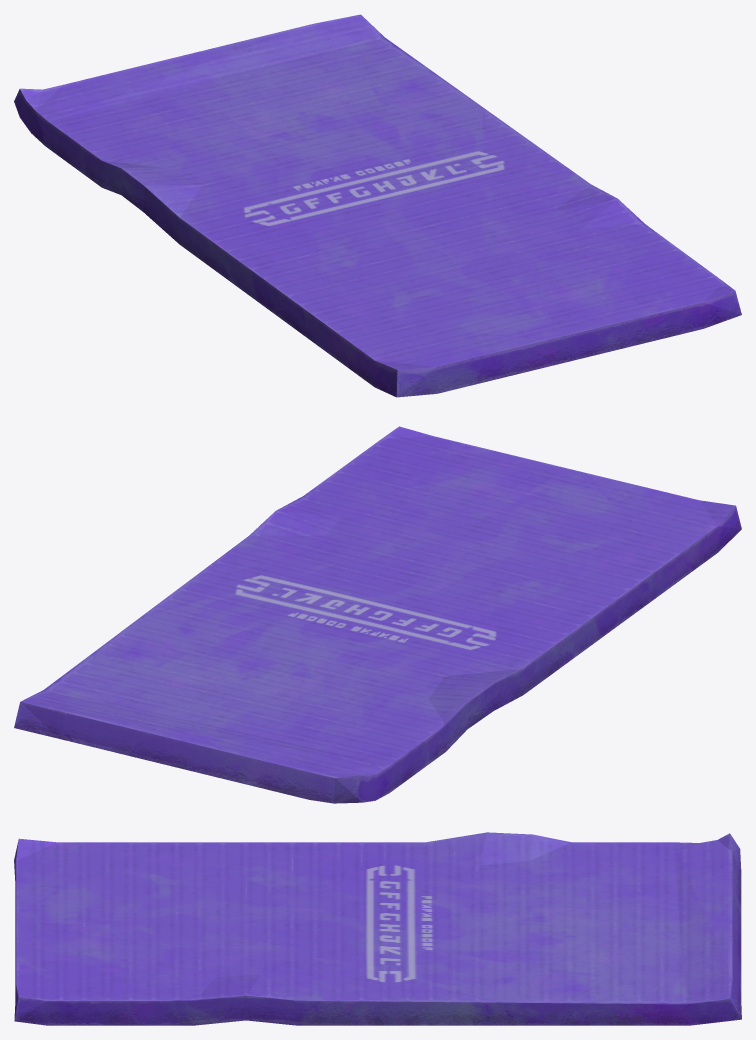
The model's file is P_YogaMat_001_S1_M03.obj.
The picture shows the model from 3 angles, top to bottom: view 1: azimuth 30°, elevation 25°; view 2: azimuth 150°, elevation 25°; view 3: azimuth 270°, elevation 25°; orthographic projection. The views are drawn at different scales.
Size of the model in its own units: 0.9838 by 0.101 by 1.89.
1 material, 1 textured.
